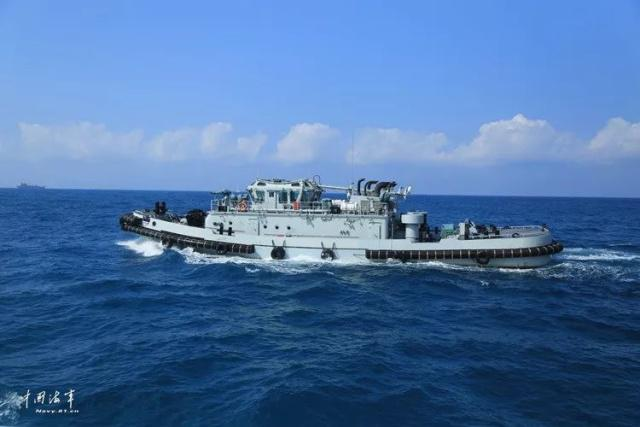otherboat: (94, 165, 569, 273)
